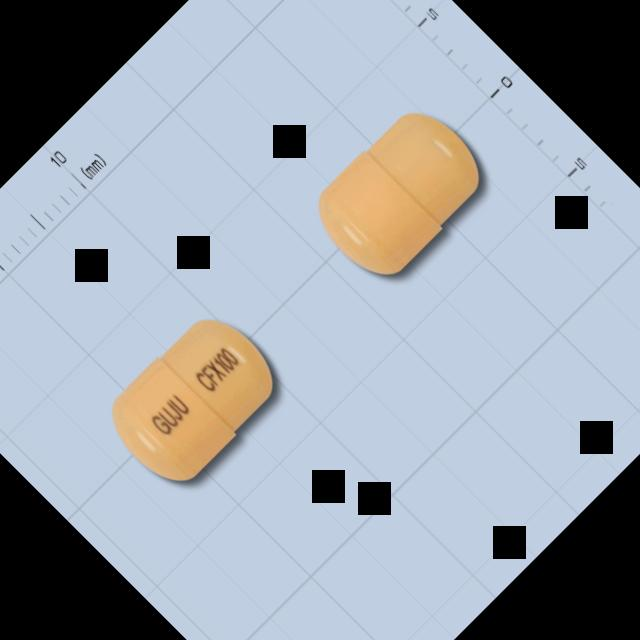Cefsin Cap: (88, 294, 300, 504)
